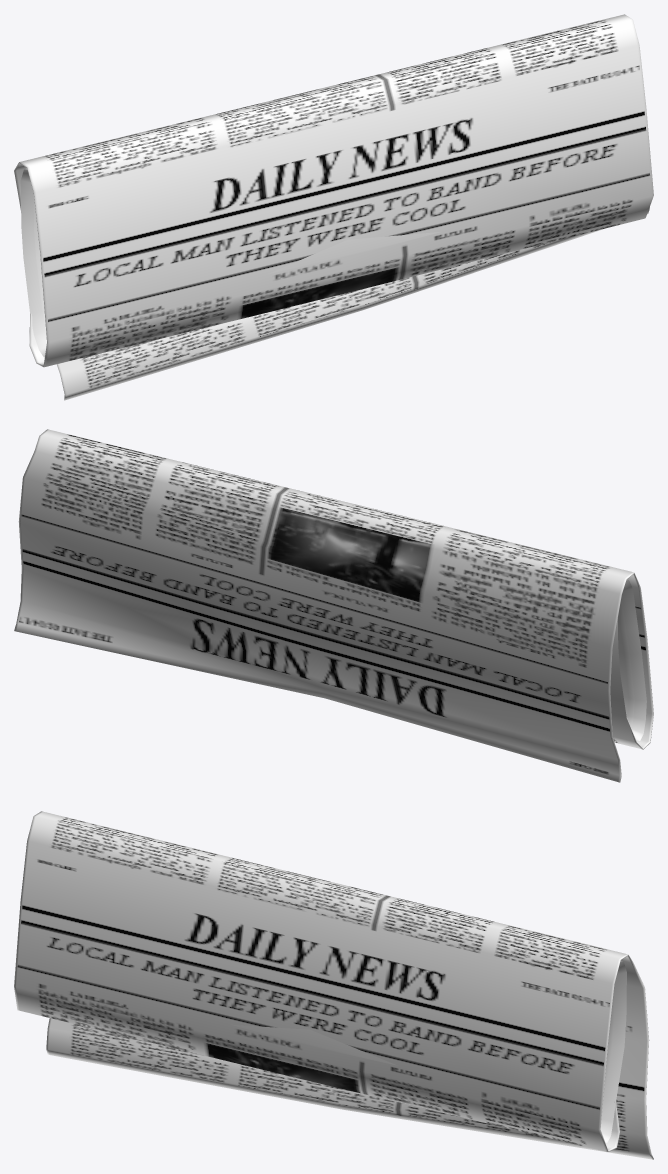
The model's file is MeshCylinder_042_0.obj.
The picture shows the model from 3 angles, top to bottom: view 1: azimuth 30°, elevation 25°; view 2: azimuth 150°, elevation 25°; view 3: azimuth 330°, elevation 25°; orthographic projection. The views are drawn at different scales.
Parts seen in each view (by area): view 1: Cylinder_042; view 2: Cylinder_042; view 3: Cylinder_042.
Part boxes in pixels (x1,y1,x2,y2): Cylinder_042: (14,14,653,400); Cylinder_042: (14,429,653,782); Cylinder_042: (14,811,653,1159).
Size of the model in its own units: 0.3526 by 0.1237 by 0.0368.
1 material, 1 textured.
